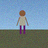person: (17, 10, 28, 34)
